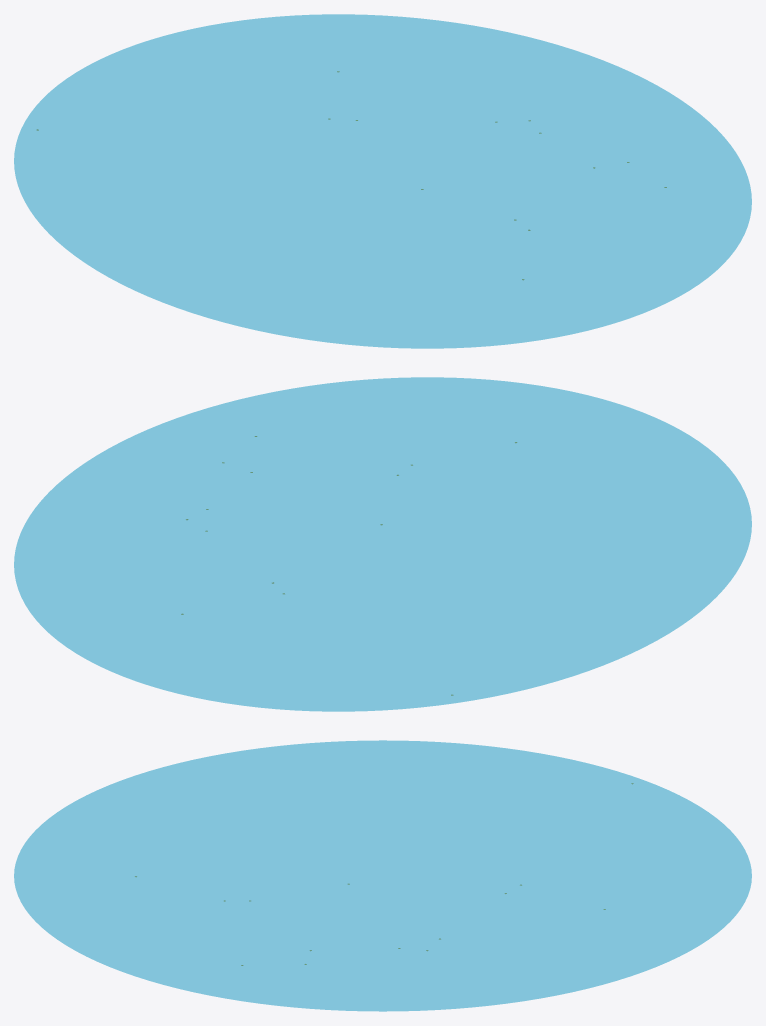
The model's file is MHL-terrain.glb.
3 renders of one model, top to bottom at view 1: azimuth 30°, elevation 25°; view 2: azimuth 150°, elevation 25°; view 3: azimuth 270°, elevation 25°, orthographic. The views are drawn at different scales.
Visible parts, largest first — view 1: Relevo com hidrografia; view 2: Relevo com hidrografia; view 3: Relevo com hidrografia.
Part boxes in pixels (<box>): Relevo com hidrografia: <box>14,14,751,348</box>; Relevo com hidrografia: <box>14,377,751,711</box>; Relevo com hidrografia: <box>14,740,751,1011</box>.
Size of the model in its own units: 1.32 by 0.00203 by 1.52.
2 materials, 1 textured.
